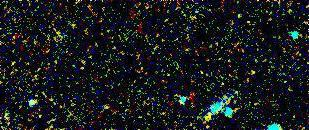star: (196, 95, 226, 125)
